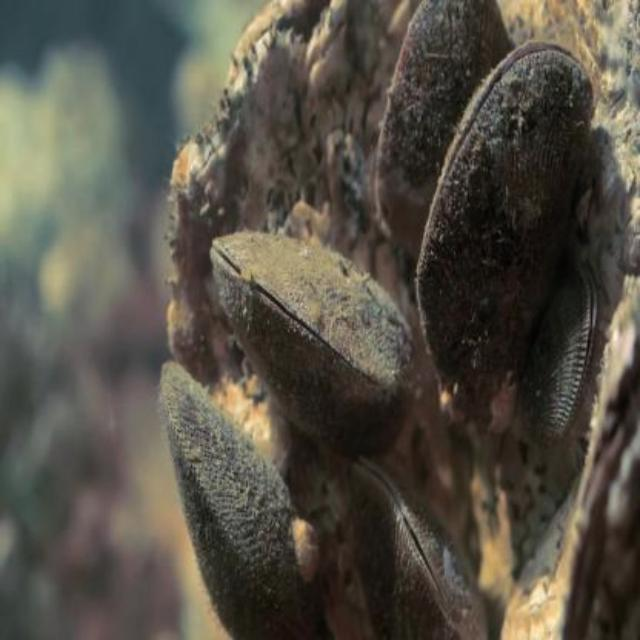Oyster-Closed: (413, 40, 596, 420), (208, 230, 418, 457), (157, 358, 313, 638), (384, 0, 512, 251), (349, 454, 492, 638), (562, 388, 638, 638), (517, 260, 601, 451)
